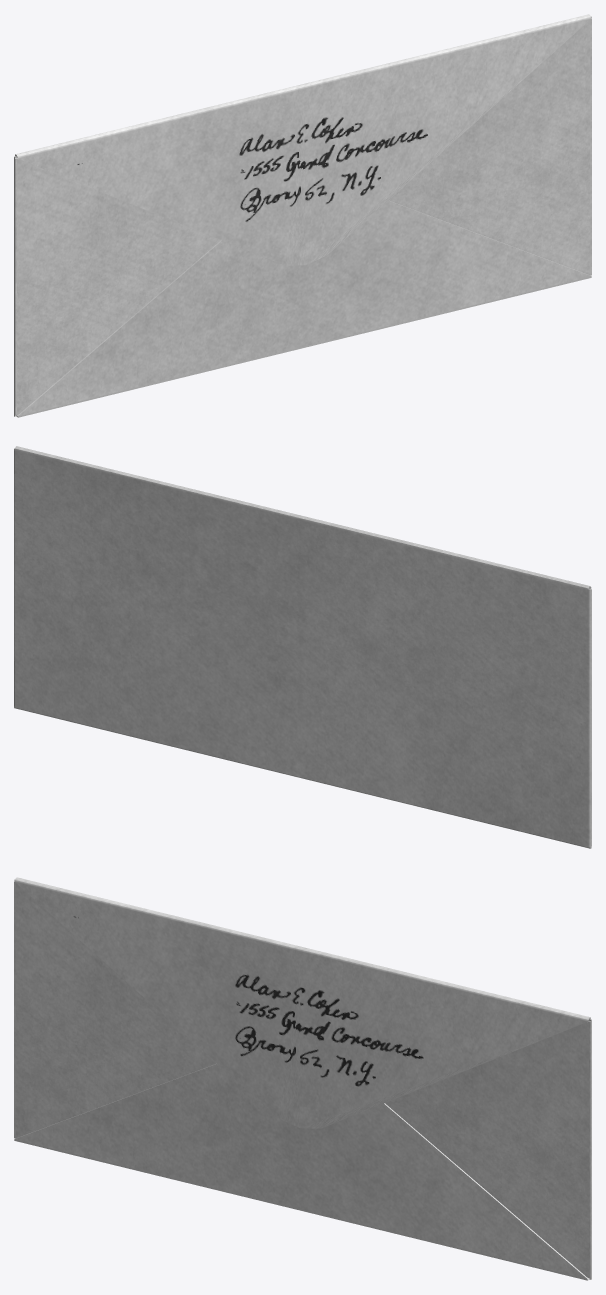
File: AP_EnvelopeClosed02_HB.fbx
3 views of the same model, one above another, from view 1: azimuth 30°, elevation 25°; view 2: azimuth 150°, elevation 25°; view 3: azimuth 330°, elevation 25° (orthographic).
Visible parts, largest first — view 1: pCube6; view 2: pCube6; view 3: pCube6.
Boxes of the visible parts, left/top/right/bottom form: pCube6: left=14, top=14, right=591, bottom=417; pCube6: left=14, top=446, right=591, bottom=848; pCube6: left=14, top=877, right=591, bottom=1280.
Size of the model in its own units: 27.9 by 12.1 by 0.375.
1 material, 1 textured.
